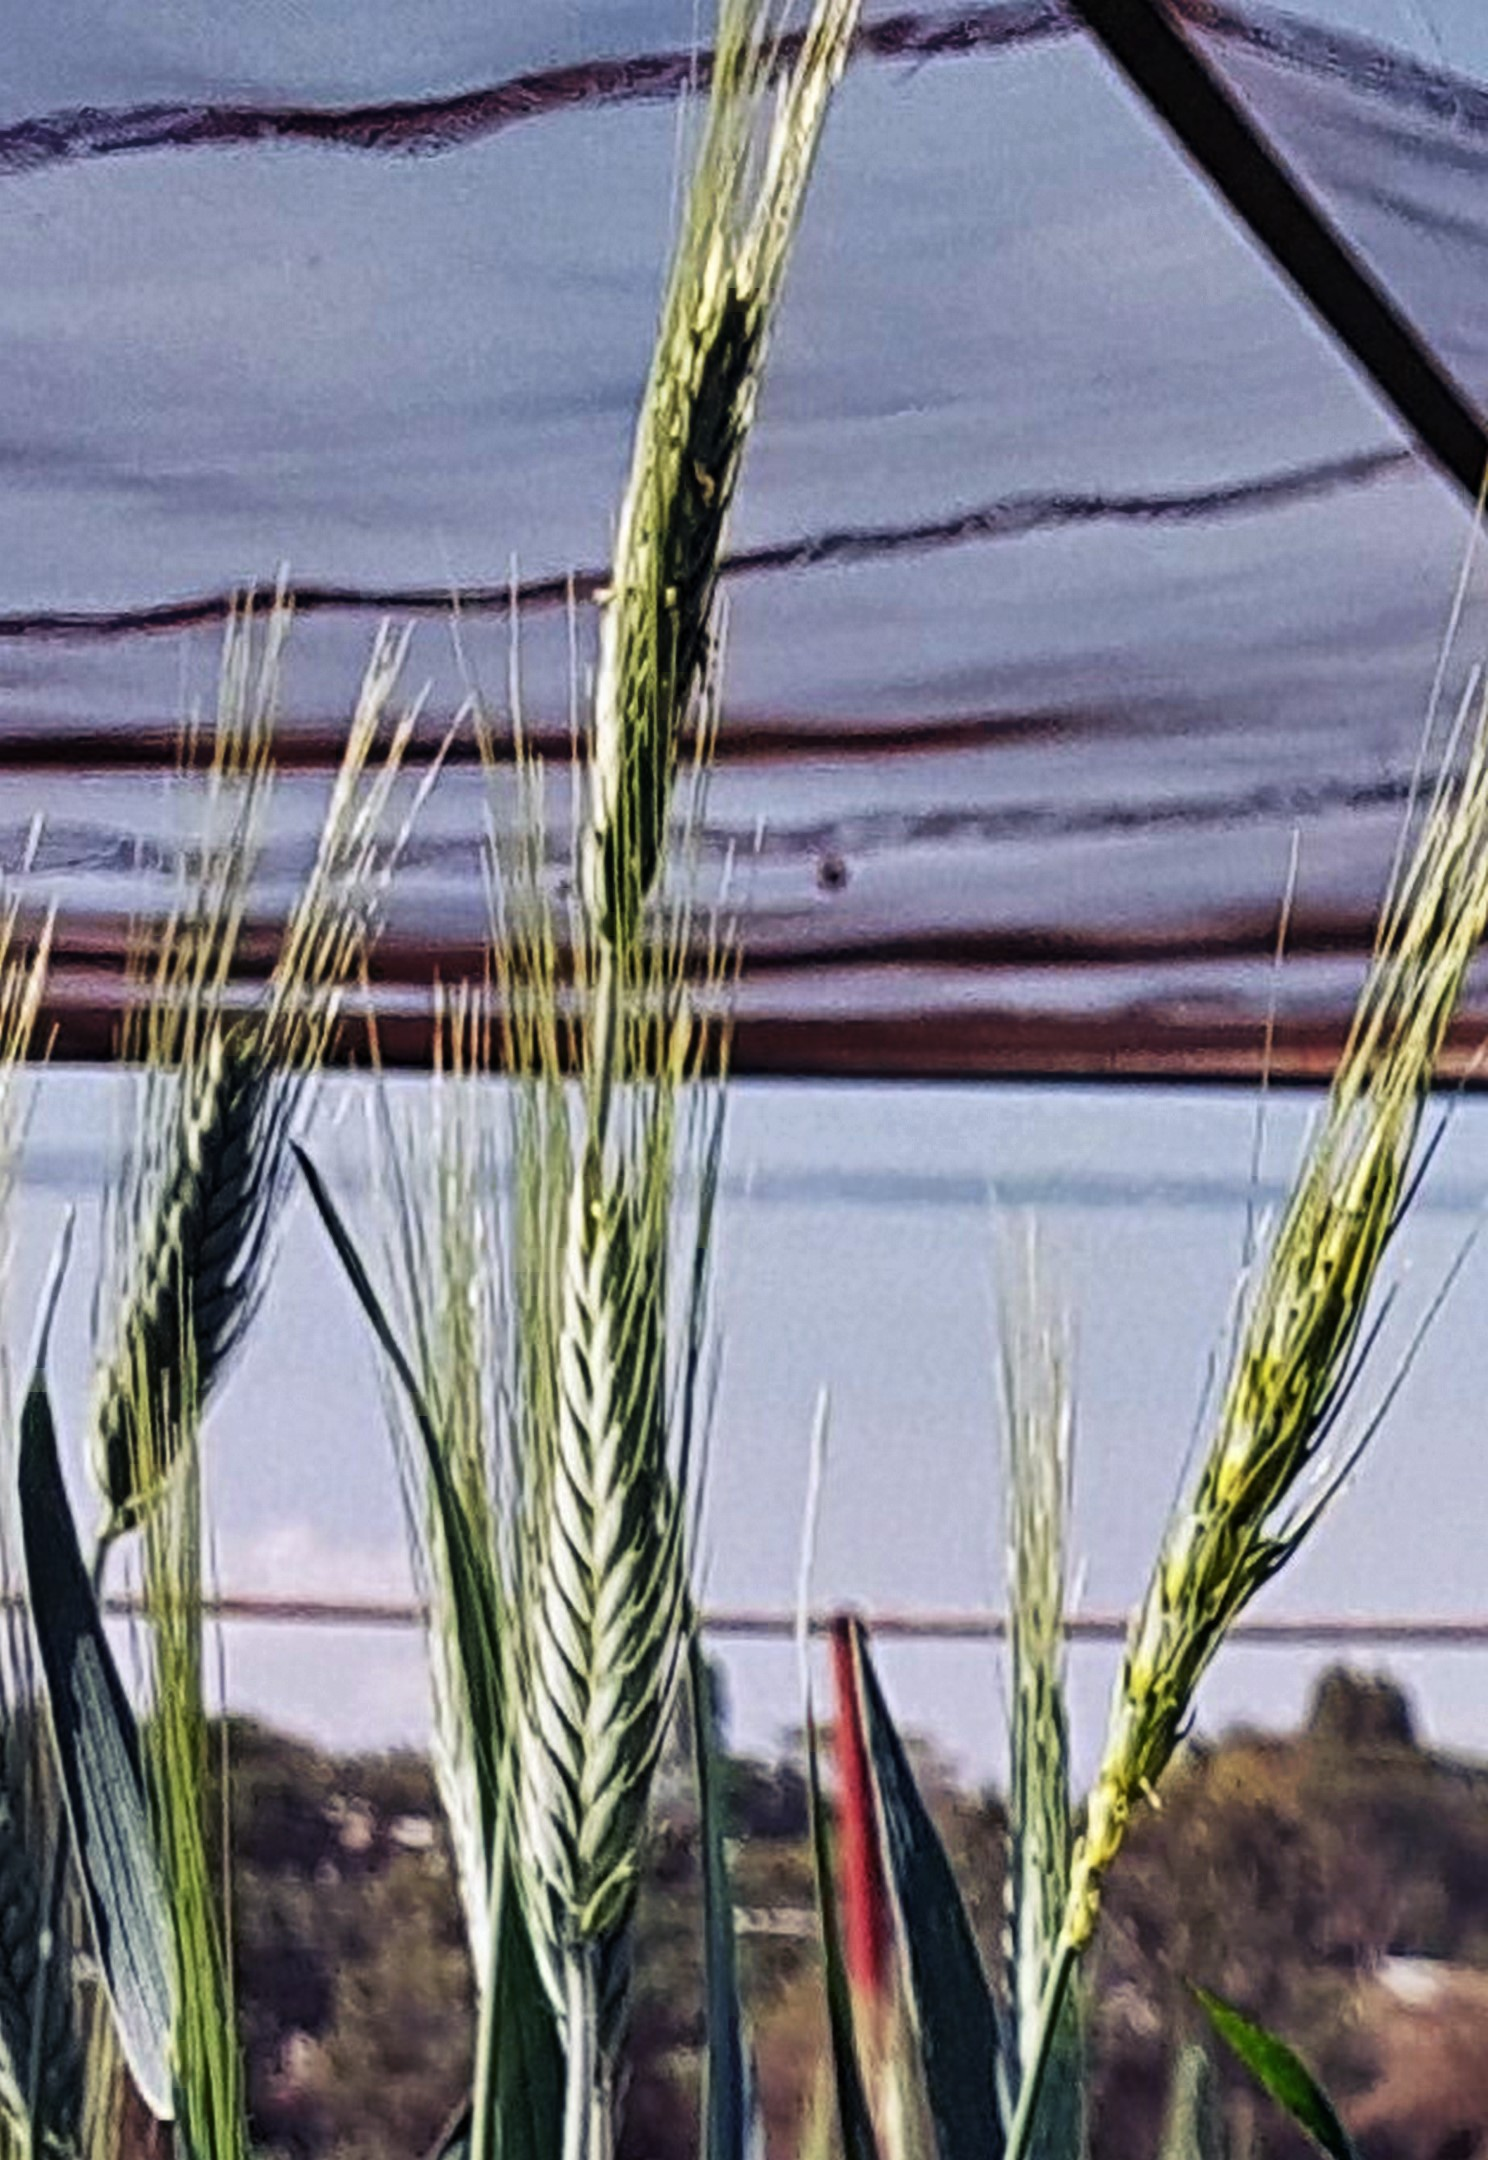Healthy Wheat: (471, 1123, 714, 1979)
